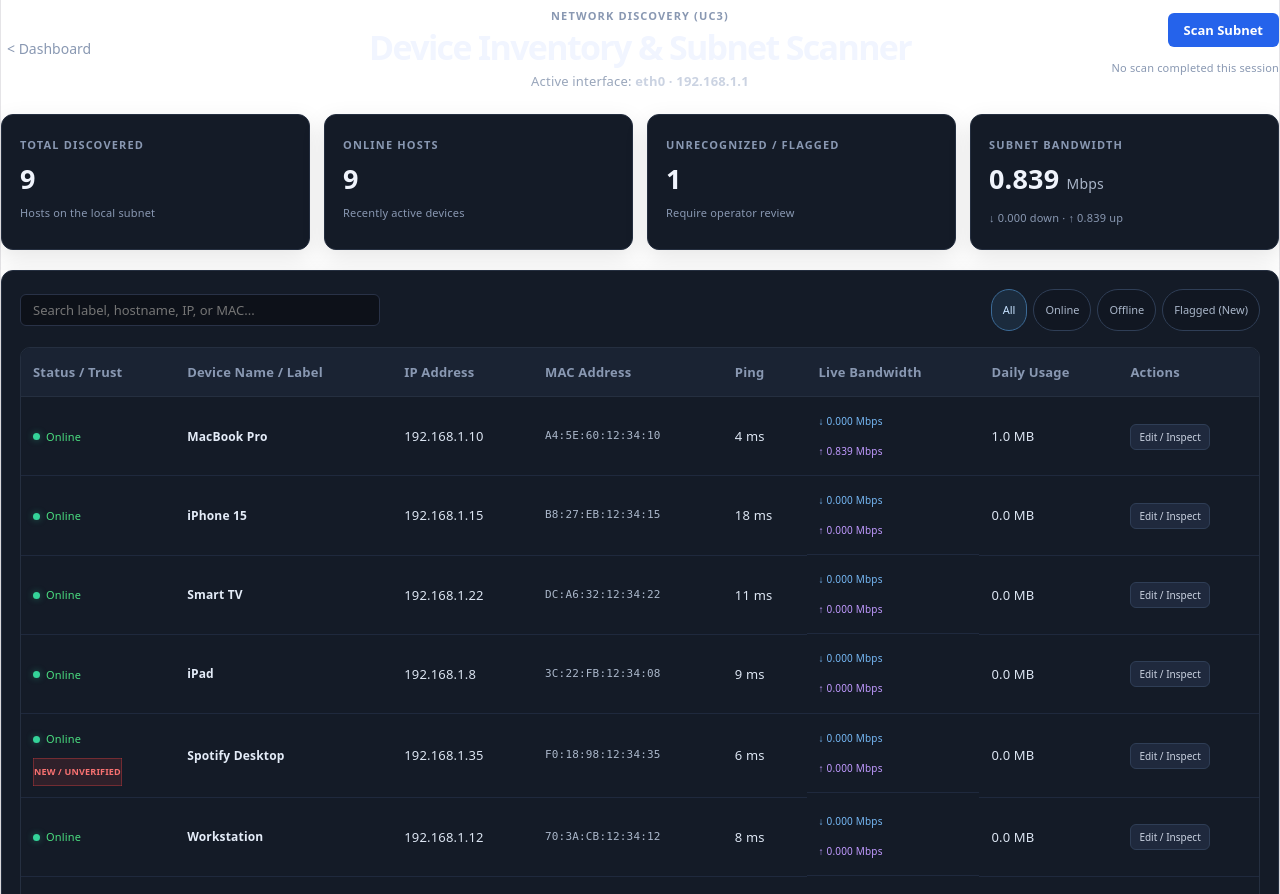
DevicesPage › trims and saves labels and lets an operator acknowledge a flagged device
Click the text "MacBook Pro". click: (227, 436)
box: x1=187 y1=428 x2=268 y2=444
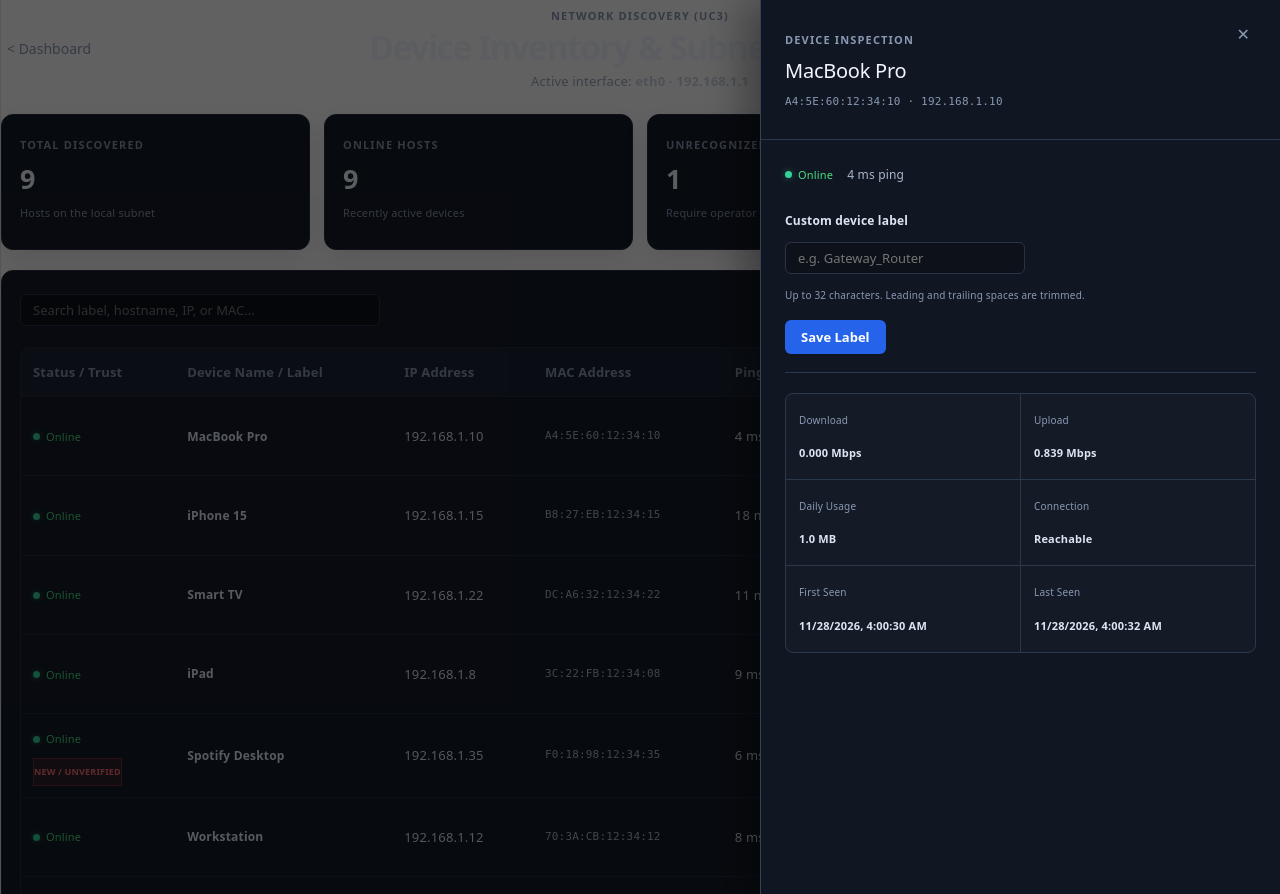
Type "  Office TV  " into the field labelled "Custom device label". click: (905, 258)
box: x1=785 y1=242 x2=1025 y2=274
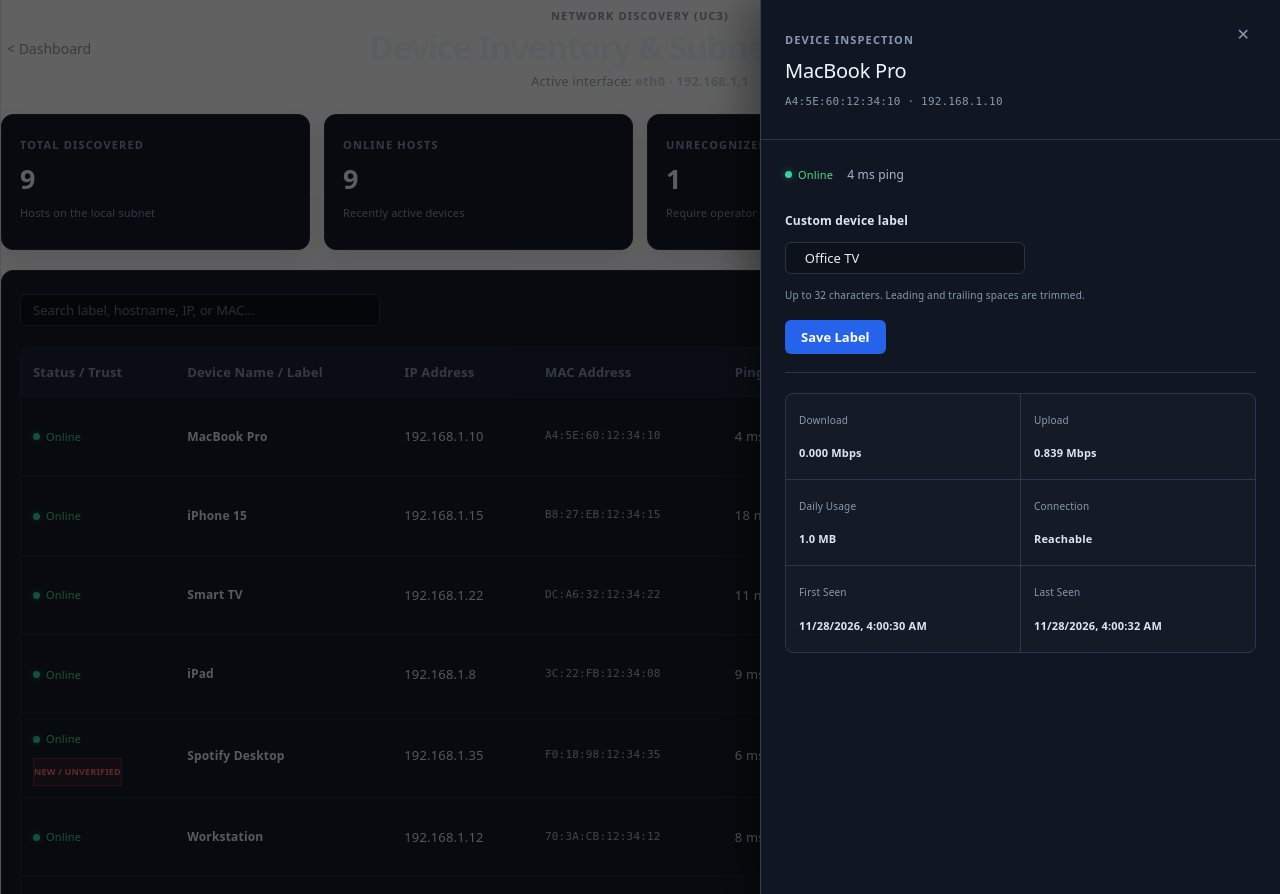
Click the button "Save Label". click: (835, 337)
box: x1=785 y1=320 x2=886 y2=354
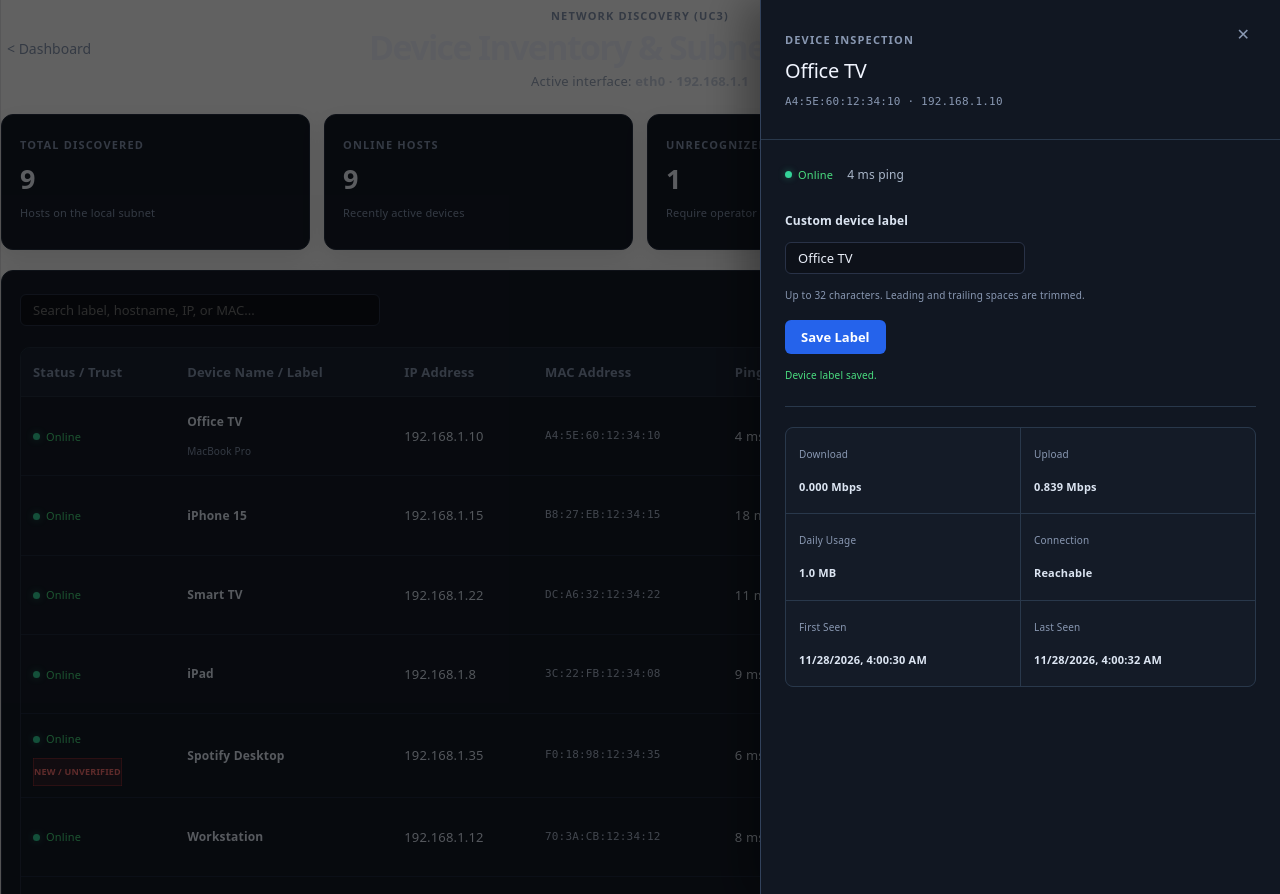
Expected: the text "Office TV" is shown, x1=187 y1=413 x2=242 y2=430
Expected: the message reads "Device label saved.", x1=785 y1=368 x2=877 y2=382
Click the button named "Close device details". click: (1243, 34)
box: x1=1231 y1=24 x2=1256 y2=45
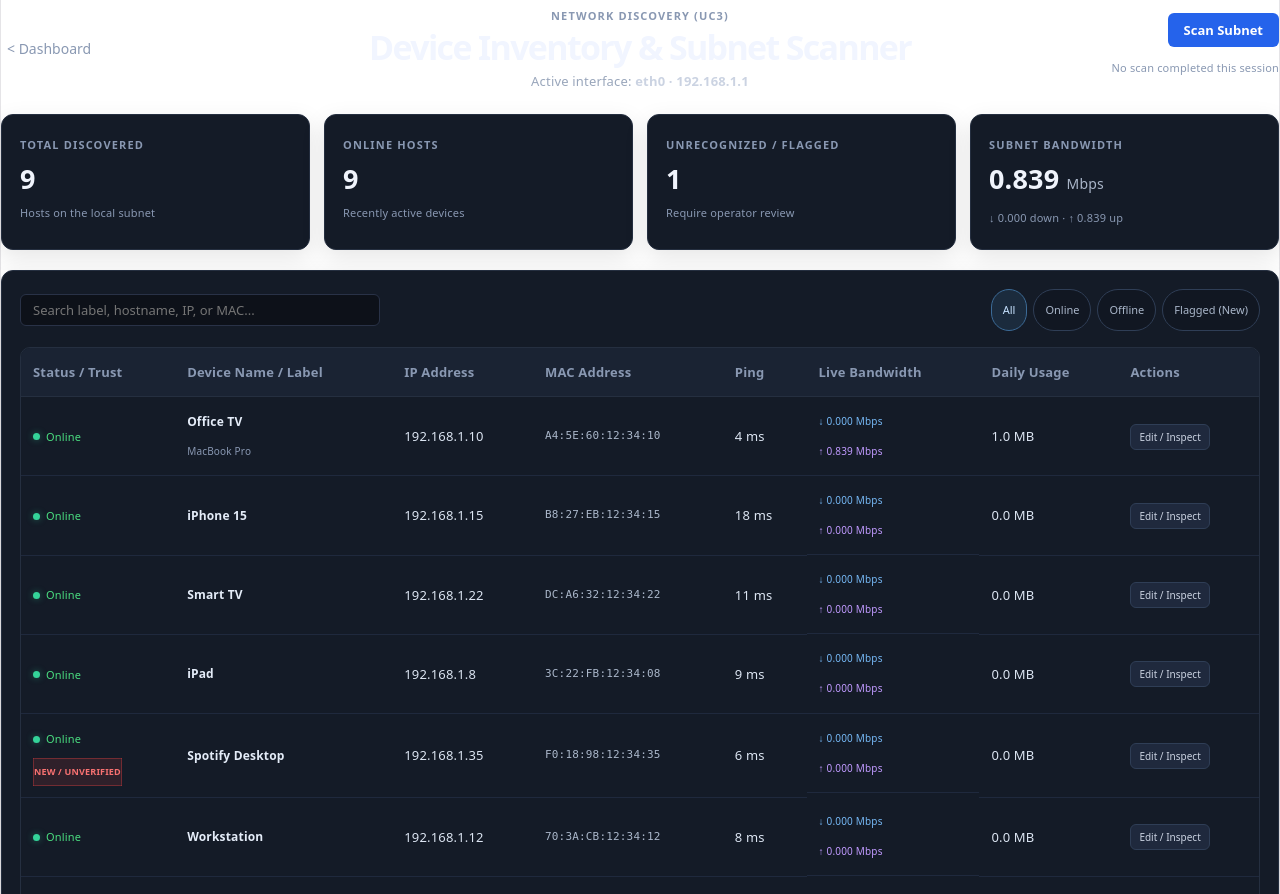
Click the text "Spotify Desktop". click: (236, 755)
box: x1=187 y1=747 x2=284 y2=764
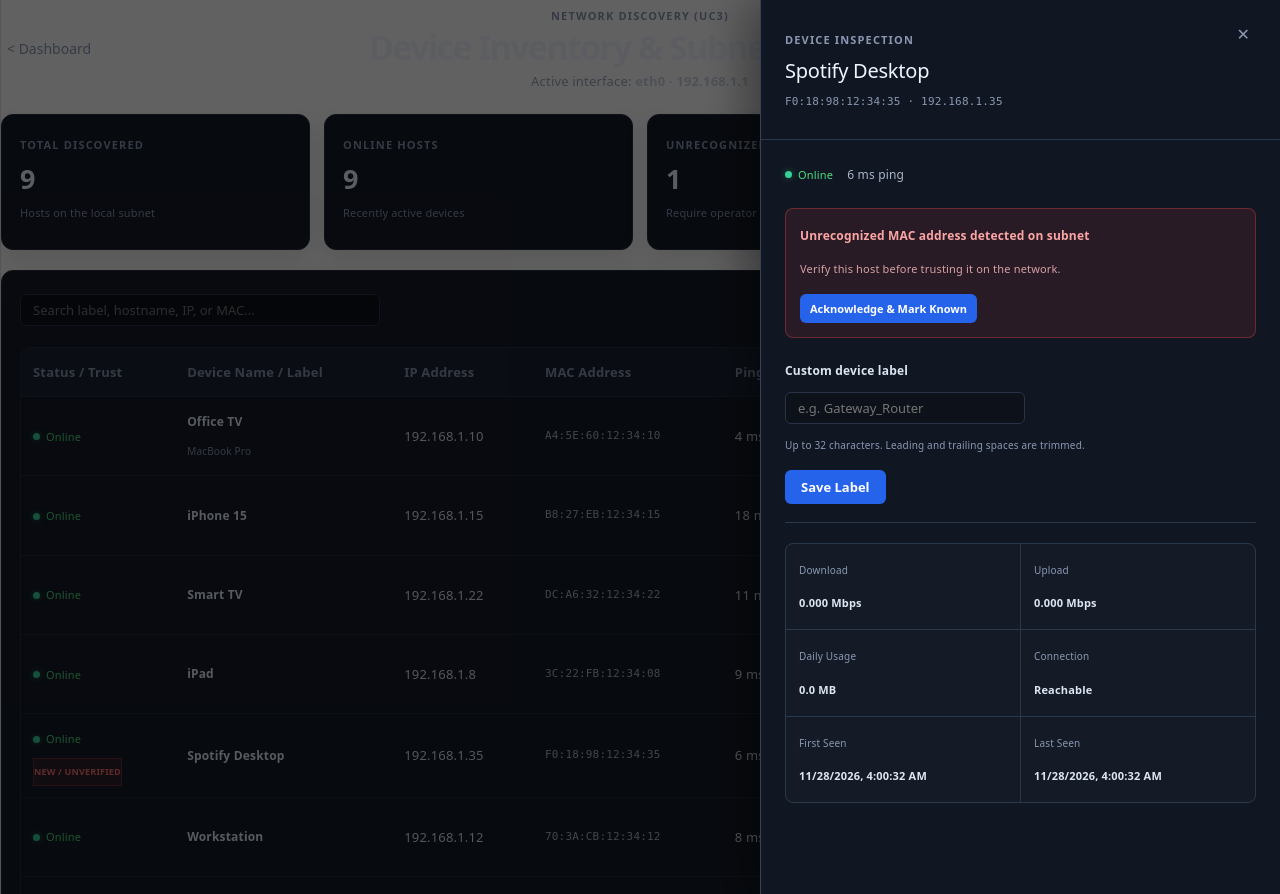
Click the button "Acknowledge & Mark Known". click: (888, 309)
box: x1=800 y1=294 x2=977 y2=323
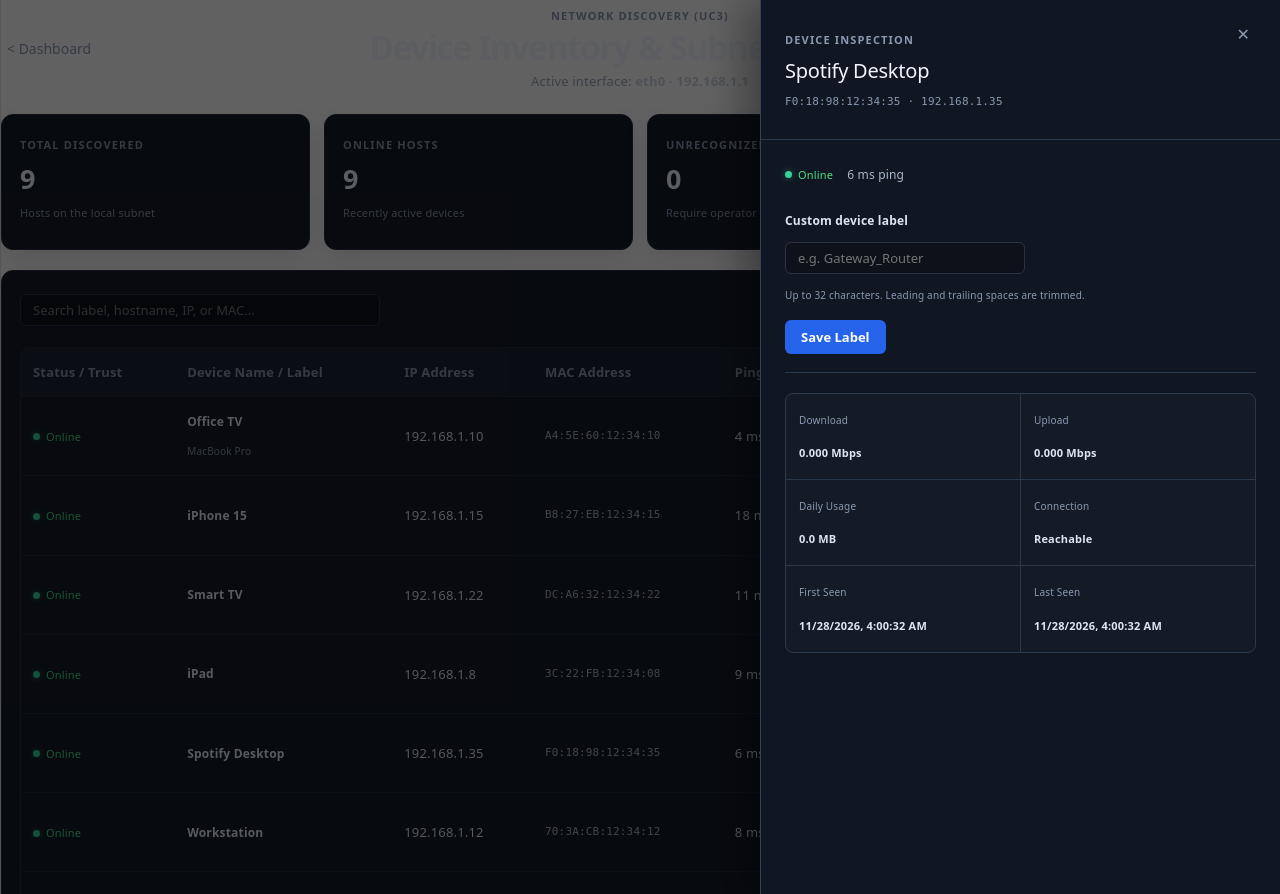
Expected: the text "Unrecognized MAC address detected on subnet" is gone
